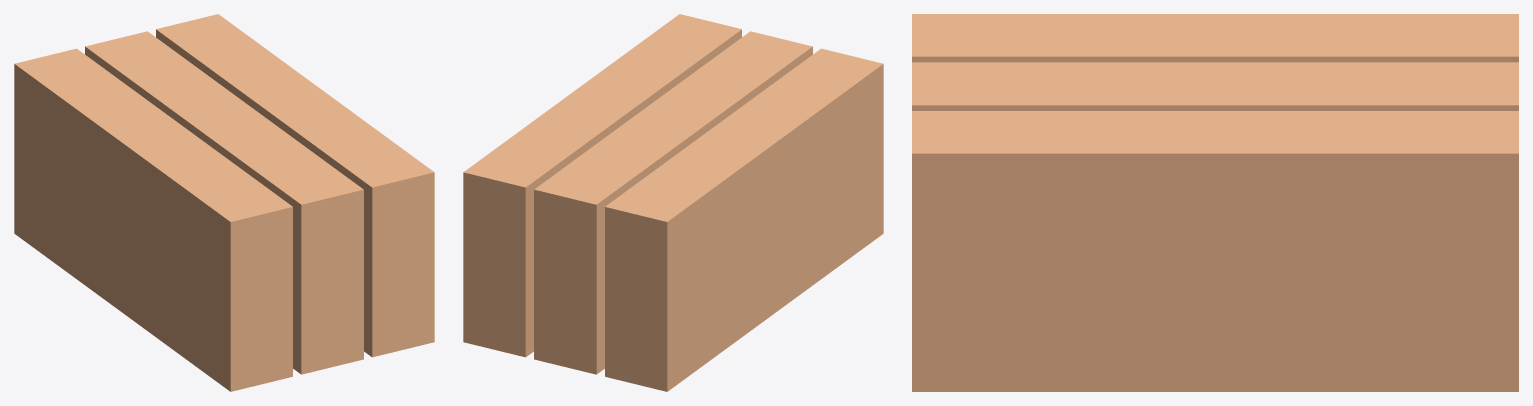
3 views of the same model, side by side, from view 1: azimuth 30°, elevation 25°; view 2: azimuth 150°, elevation 25°; view 3: azimuth 270°, elevation 25° (orthographic). The views are drawn at different scales.
Visible parts, largest first — view 1: Timber.006, Timber.007, Timber.008, Timber.003, Timber, Timber.002, Timber.004, Timber.005, Timber.001; view 2: Timber.006, Timber.007, Timber.008, Timber.003, Timber, Timber.002, Timber.004, Timber.005, Timber.001; view 3: Timber.008, Timber.002, Timber.005, Timber.006, Timber.007.
Boxes of the visible parts, box(x1,y1,x2,y2) form: Timber.006: box(14, 48, 292, 278); Timber.007: box(85, 31, 363, 261); Timber.008: box(156, 14, 434, 243); Timber.003: box(14, 120, 292, 335); Timber: box(14, 177, 292, 391); Timber.002: box(364, 285, 434, 357); Timber.004: box(293, 246, 363, 317); Timber.005: box(364, 229, 434, 300); Timber.001: box(293, 303, 363, 374); Timber.006: box(605, 48, 883, 278); Timber.007: box(534, 31, 812, 261); Timber.008: box(463, 14, 741, 243); Timber.003: box(605, 120, 883, 335); Timber: box(605, 177, 883, 391); Timber.002: box(463, 285, 533, 357); Timber.004: box(534, 246, 604, 317); Timber.005: box(463, 229, 533, 300); Timber.001: box(534, 303, 604, 374); Timber.008: box(912, 111, 1518, 232); Timber.002: box(912, 312, 1518, 391); Timber.005: box(912, 233, 1518, 312); Timber.006: box(912, 14, 1518, 62); Timber.007: box(912, 62, 1518, 110).
Size of the model in its own units: 0.49 by 0.39 by 0.9.
Materials: 1 (1 with a texture image).
